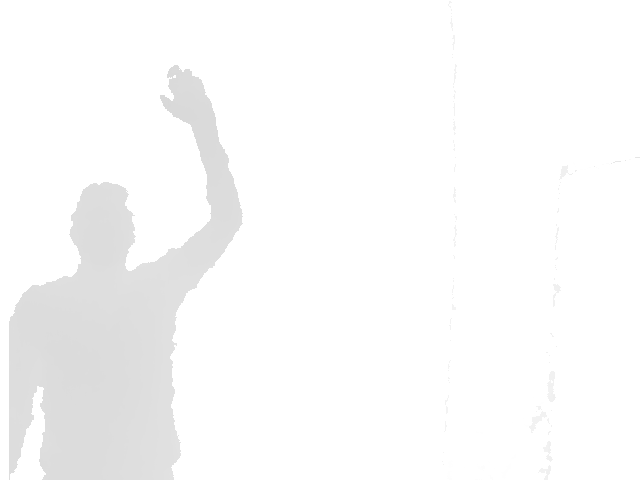hand: (158, 64, 219, 126)
head: (70, 182, 135, 267)
person: (9, 64, 244, 480)
